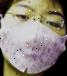with_mask: (1, 2, 67, 76)
